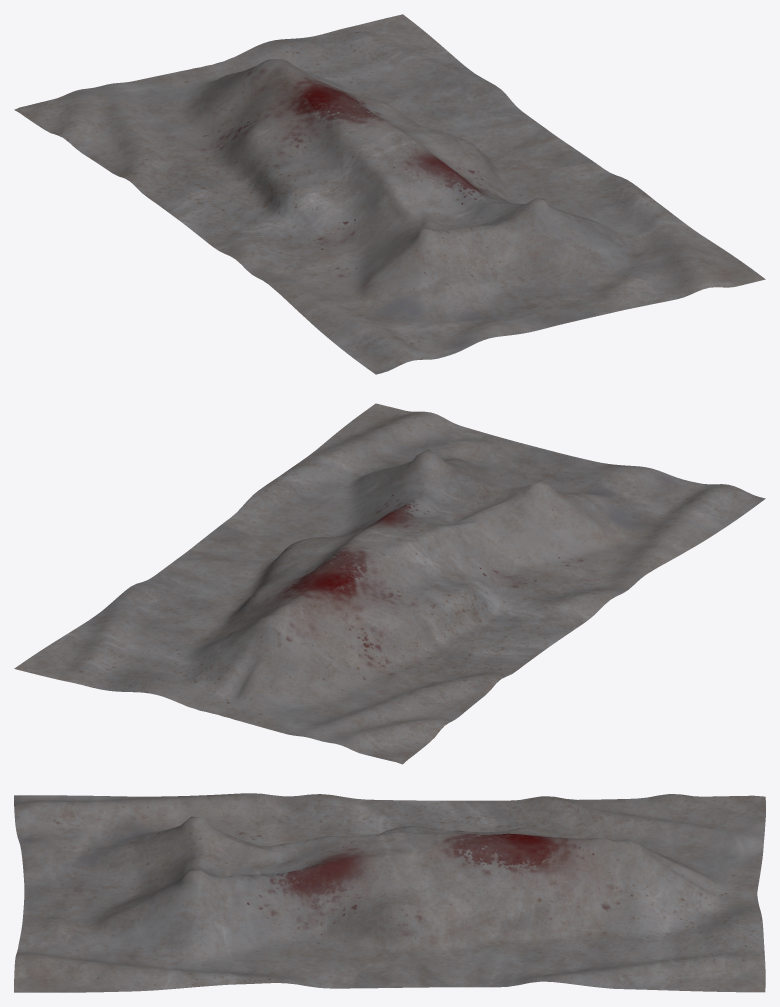
The model's file is covered_body.glb.
3 views of the same model, one above another, from view 1: azimuth 30°, elevation 25°; view 2: azimuth 150°, elevation 25°; view 3: azimuth 270°, elevation 25° (orthographic). The views are drawn at different scales.
Visible parts, largest first — view 1: Object_2; view 2: Object_2; view 3: Object_2.
Part boxes in pixels (x1=…): Object_2: x1=14, y1=14, x2=765, y2=374; Object_2: x1=14, y1=403, x2=765, y2=764; Object_2: x1=14, y1=793, x2=765, y2=992.
Bounding box in the file's own units: 3.35 × 0.4449 × 5.39.
Materials: 1 (1 with a texture image).
